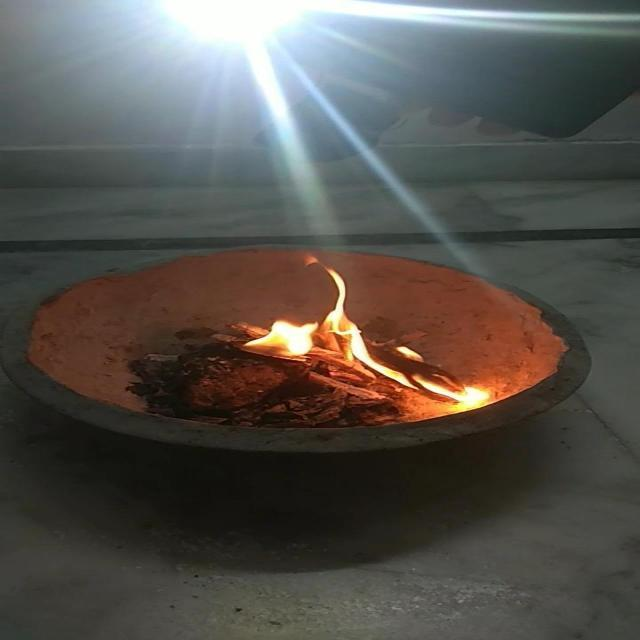fire: (234, 256, 525, 431)
smoke: (89, 0, 455, 85)
